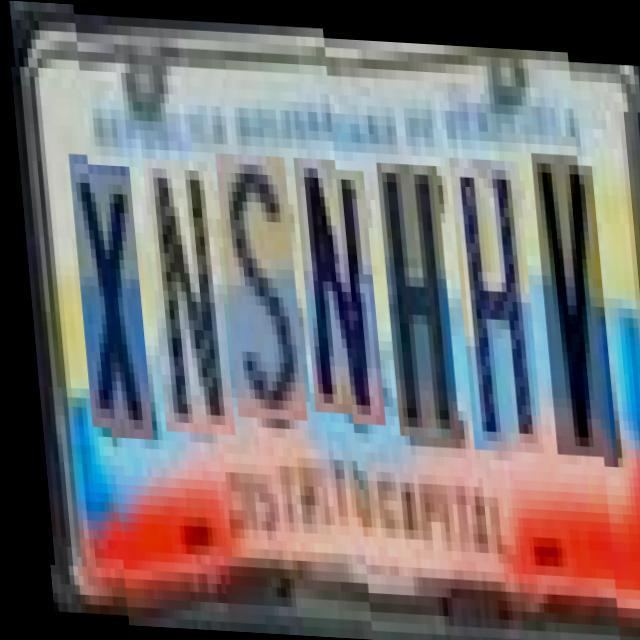H: (446, 142, 535, 438), (372, 148, 452, 424)
N: (140, 156, 228, 432), (290, 154, 378, 411)
S: (212, 150, 300, 418)
V: (528, 137, 609, 441)
X: (66, 162, 145, 438)
